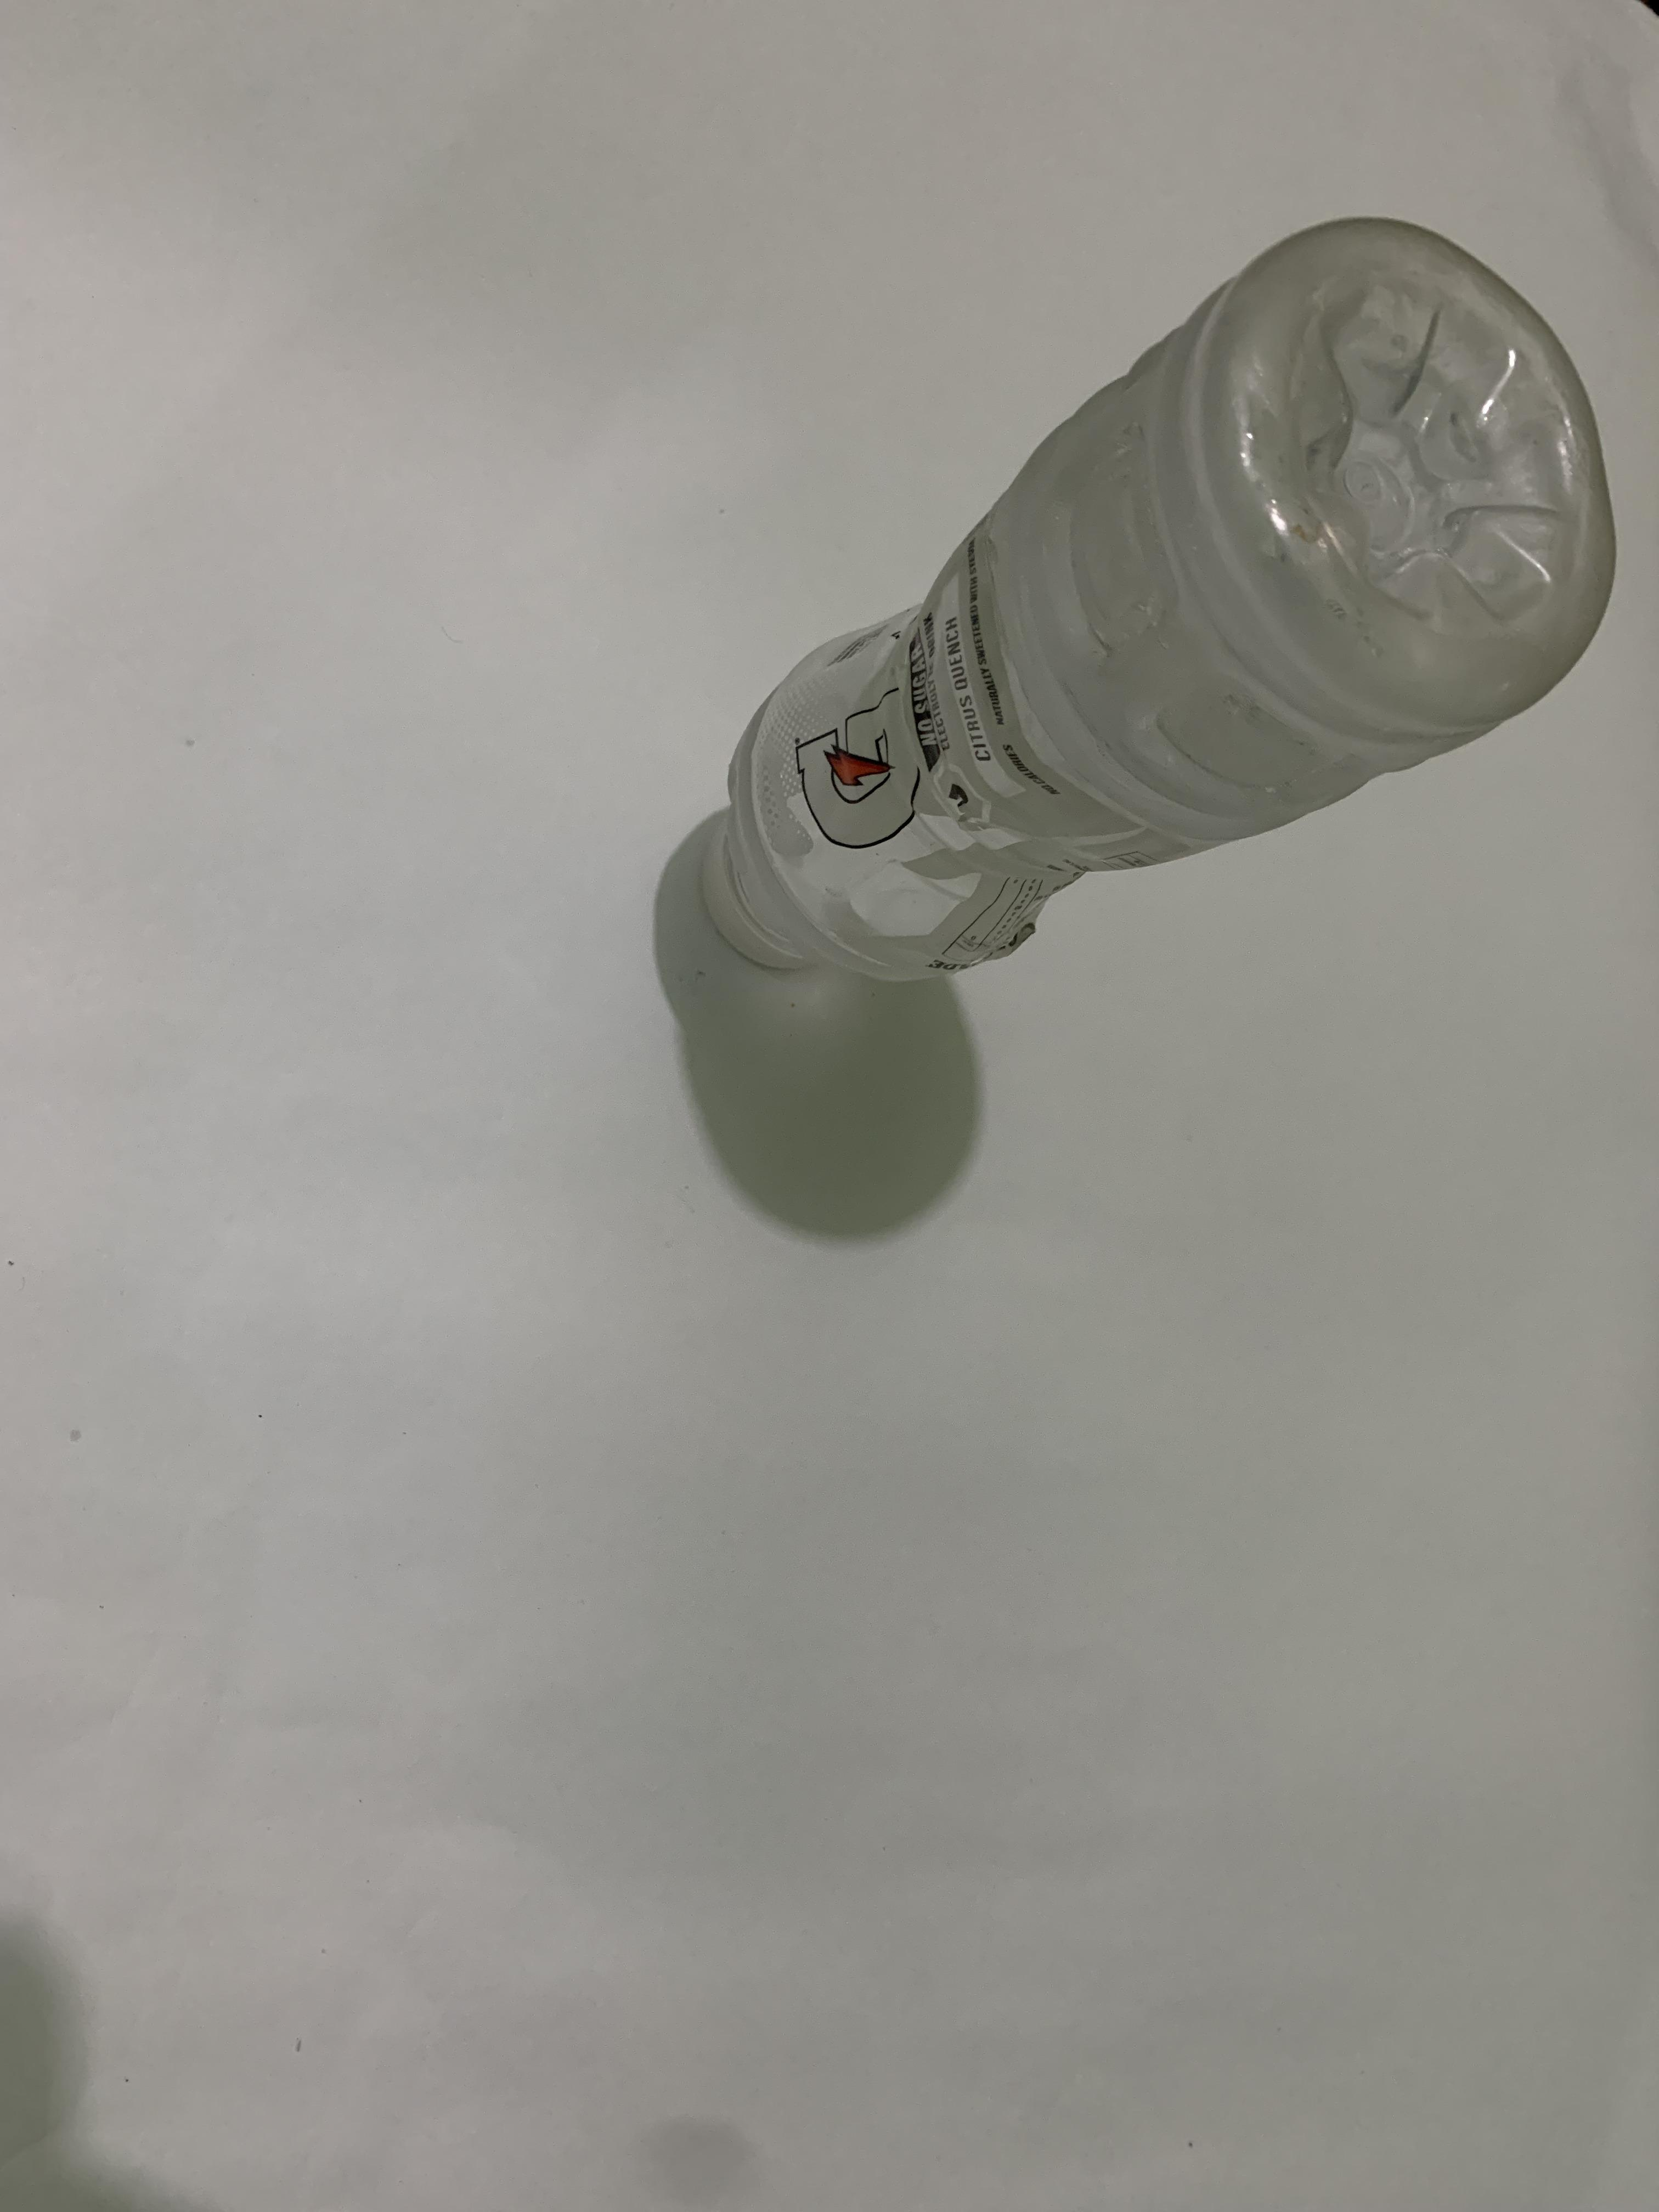bottle: (1100, 204, 1215, 1008)
